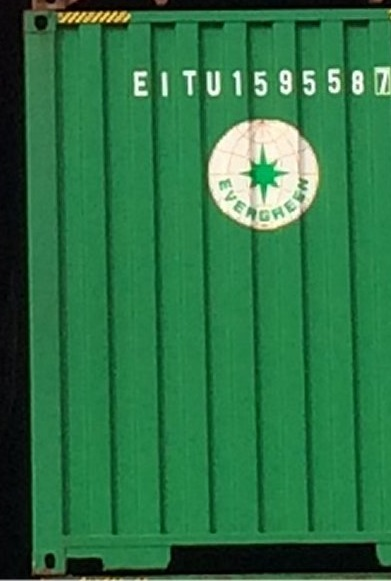container_no_door: (34, 9, 385, 576)
